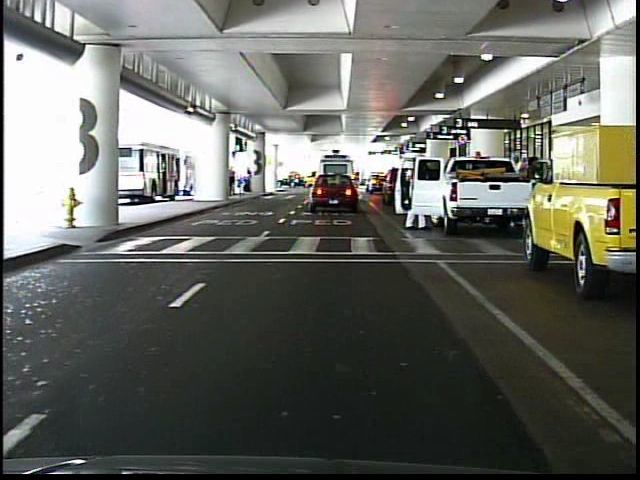person: (404, 150, 432, 233), (226, 163, 238, 198), (243, 165, 256, 195)
